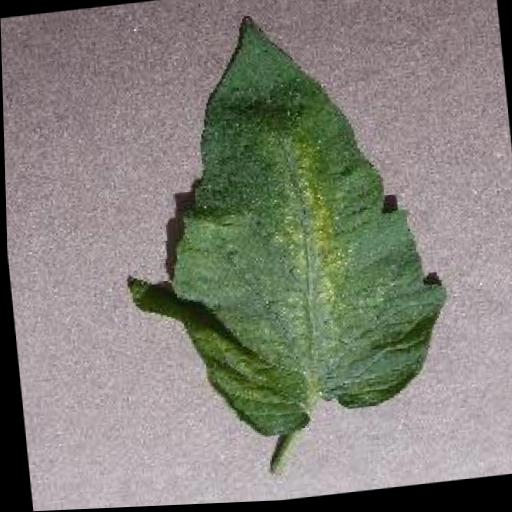Spider Mites: (101, 0, 454, 451)
